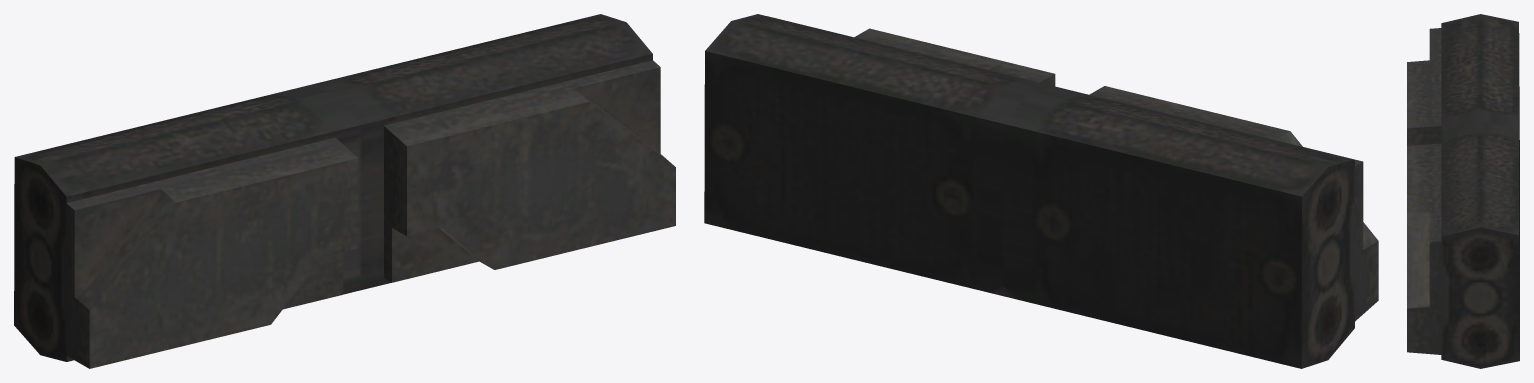
The picture shows the model from 3 angles, left to right: view 1: azimuth 30°, elevation 25°; view 2: azimuth 150°, elevation 25°; view 3: azimuth 270°, elevation 25°; orthographic projection. The views are drawn at different scales.
Visible parts, largest first — view 1: set_0_group_0; view 2: set_0_group_0; view 3: set_0_group_0.
Part boxes in pixels (x1,y1,x2,y2): set_0_group_0: [14, 14, 675, 368]; set_0_group_0: [704, 14, 1378, 368]; set_0_group_0: [1407, 14, 1519, 368].
Size of the model in its own units: 0.5149 by 0.1594 by 0.115.
1 material, 1 textured.
